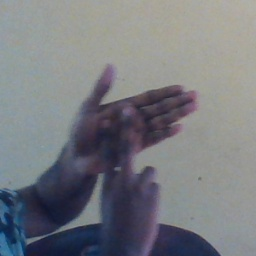N: (63, 59, 203, 213)
